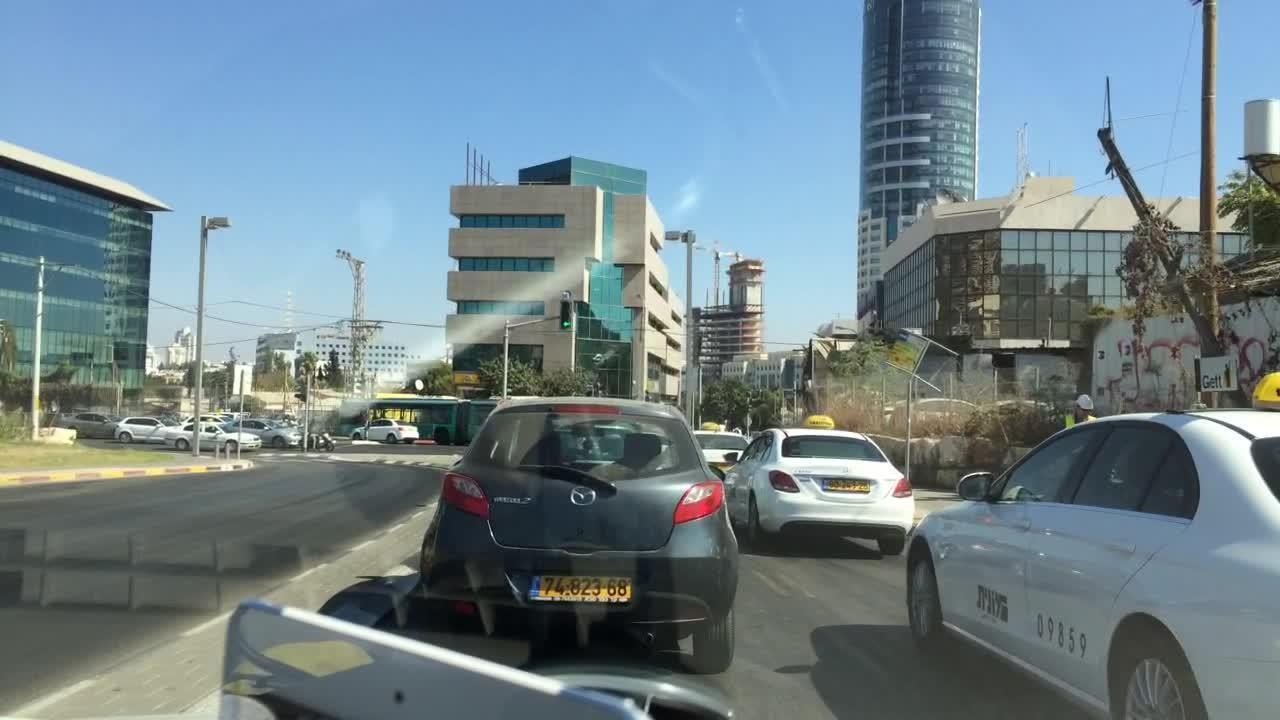Mazda: (569, 484, 599, 508)
